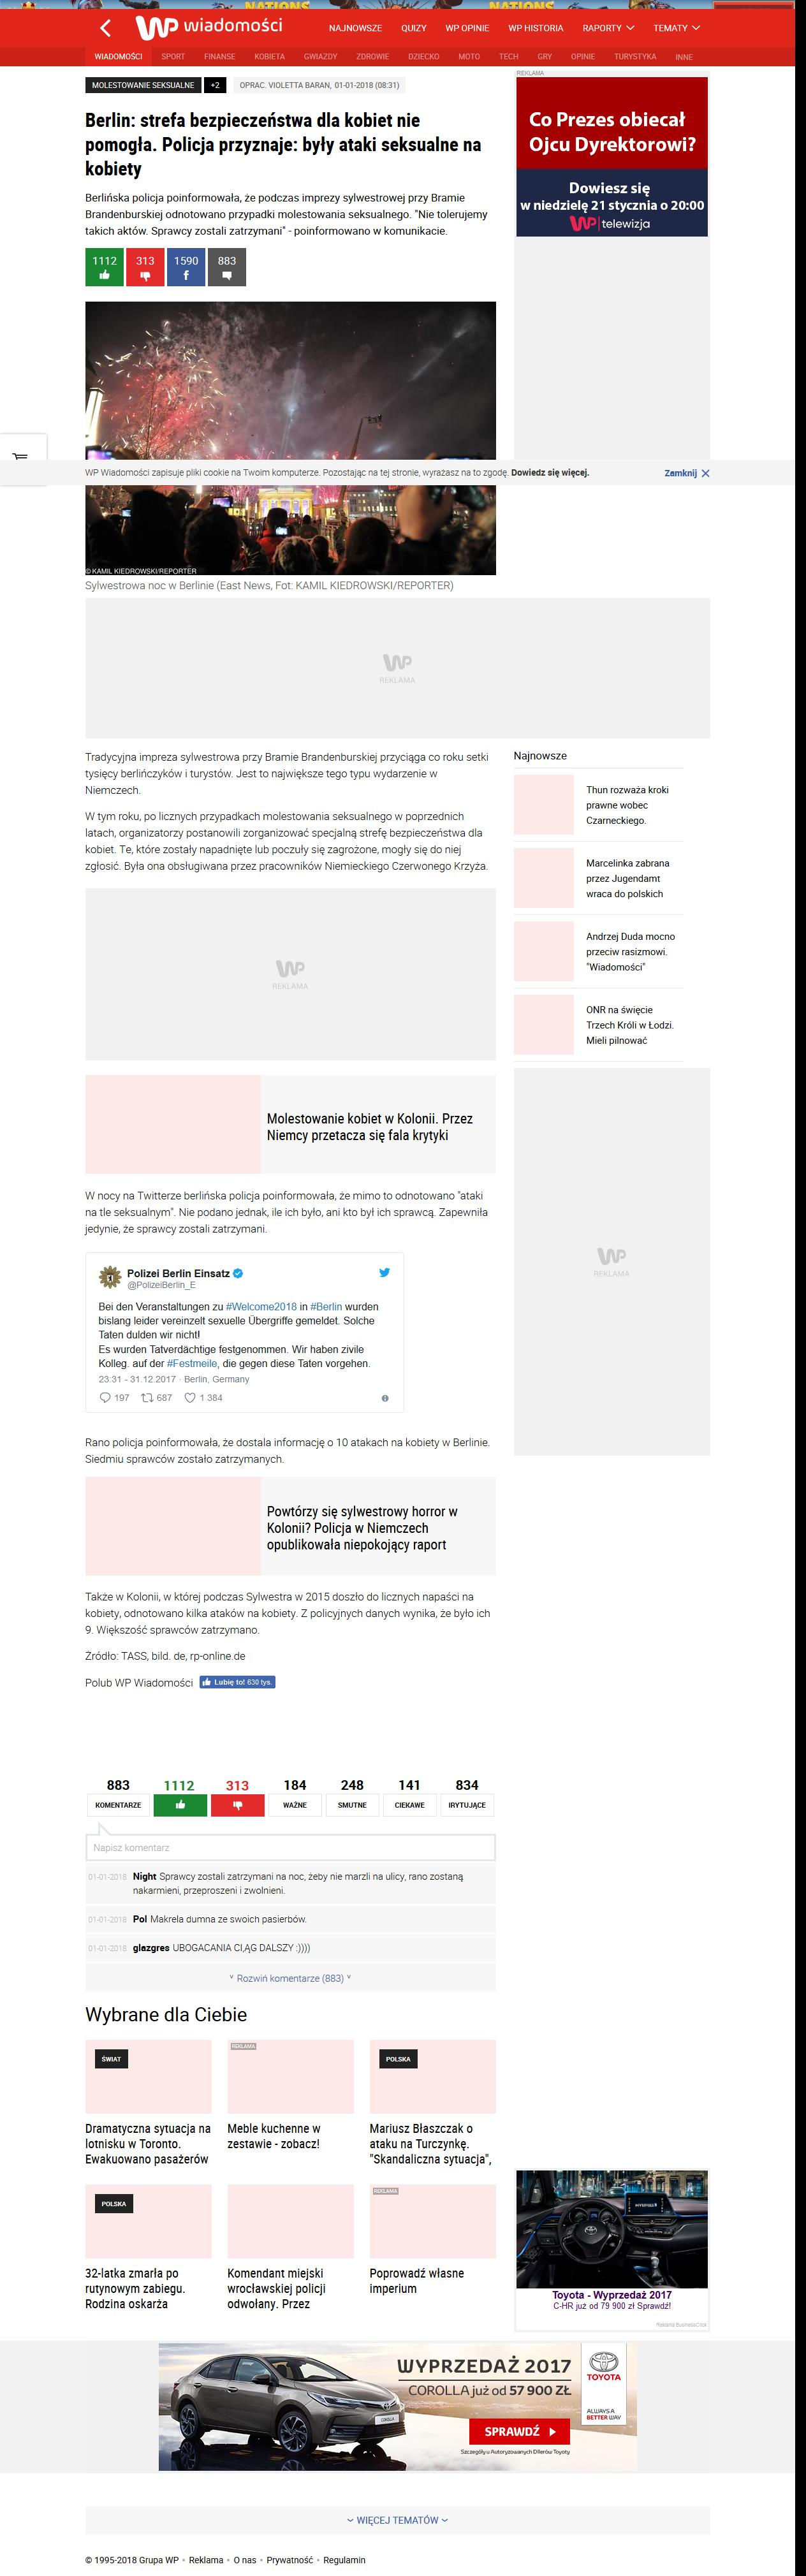title: (85, 112, 481, 179)
